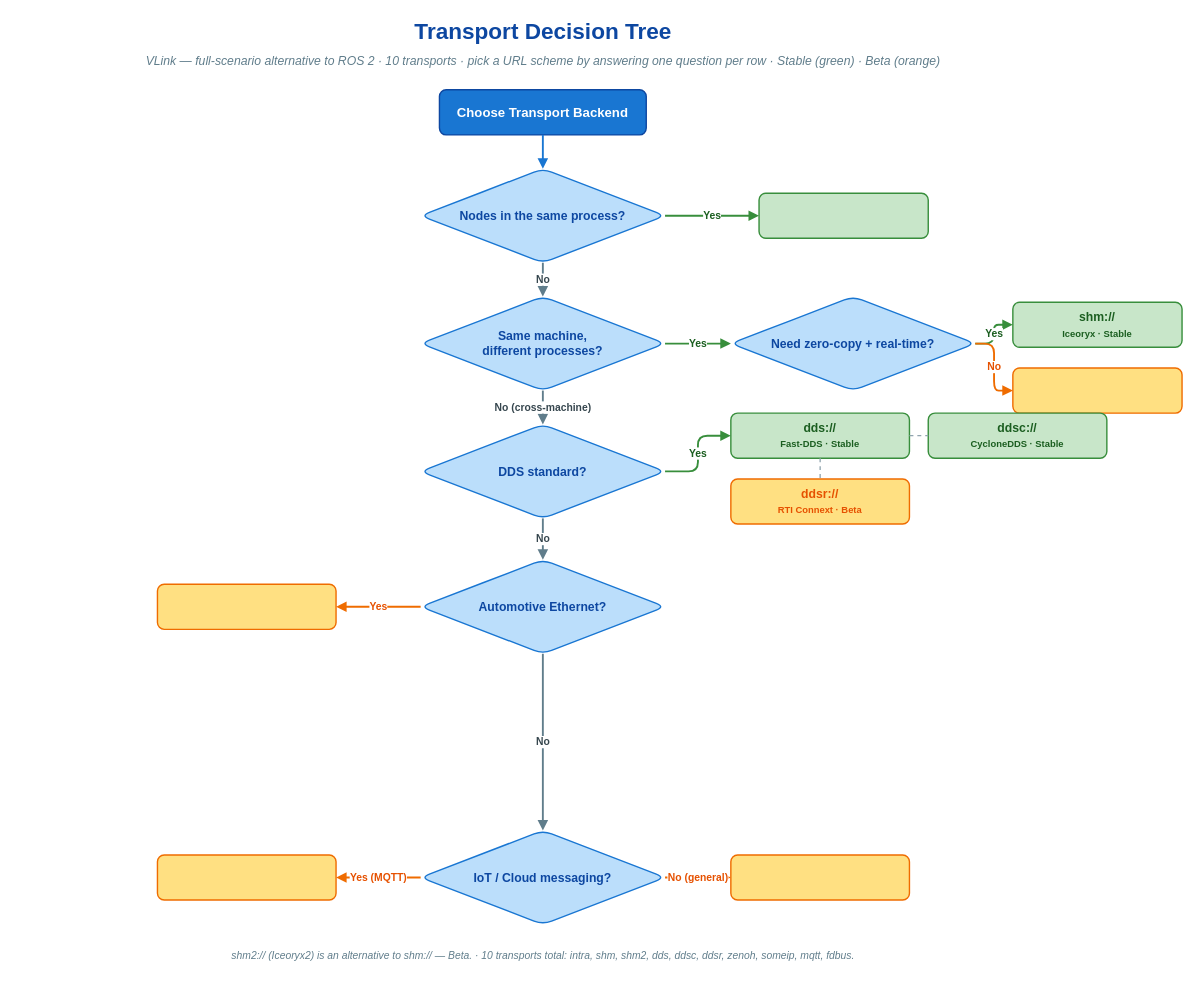
This 1199x981 diagram has some shape labels left out. The centre of each missing label's shape, as x and y in pixels:
"fdbus:// FDBus · Beta" goes at point (1097, 390).
"intra:// Intra-process · Stable" goes at point (843, 215).
"mqtt:// Paho MQTT · Beta" goes at point (246, 877).
"someip:// vsomeip · Beta" goes at point (246, 606).
"zenoh:// Zenoh · Beta" goes at point (820, 877).
